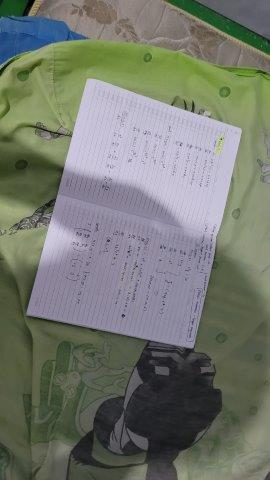kertas: (24, 79, 243, 353)
